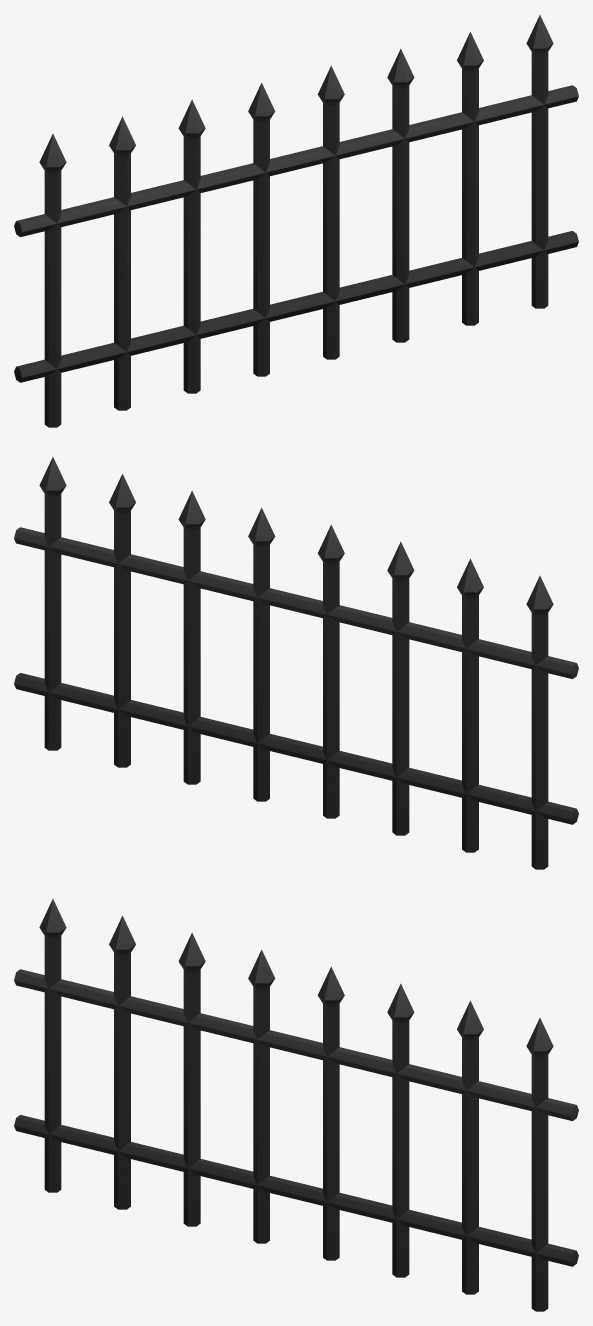
Rendered from Fence Seperate.glb.
3 views of the same model, one above another, from view 1: azimuth 30°, elevation 25°; view 2: azimuth 150°, elevation 25°; view 3: azimuth 330°, elevation 25° (orthographic).
Visible parts, largest first — view 1: fence_seperate; view 2: fence_seperate; view 3: fence_seperate.
Boxes of the visible parts, left/top/right/bottom form: fence_seperate: left=14, top=15, right=578, bottom=427; fence_seperate: left=14, top=457, right=578, bottom=869; fence_seperate: left=14, top=899, right=578, bottom=1311.
Bounding box in the file's own units: 4 × 2 × 0.1696.
1 material, 1 textured.
